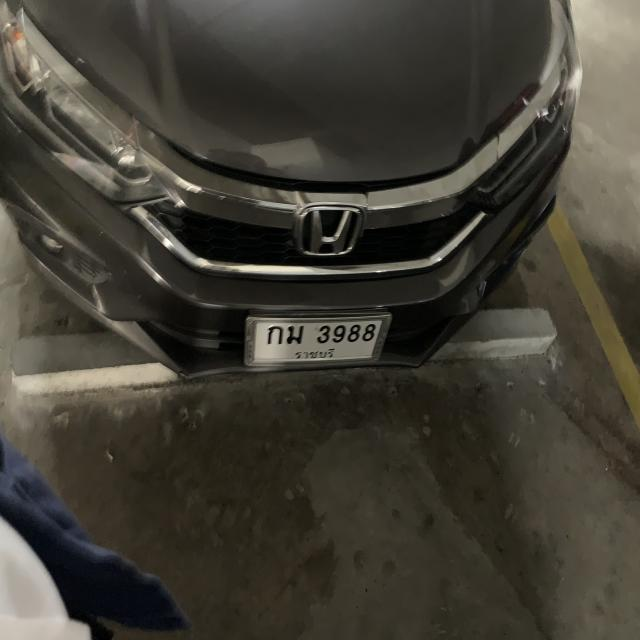license_plate: (246, 314, 384, 366)
